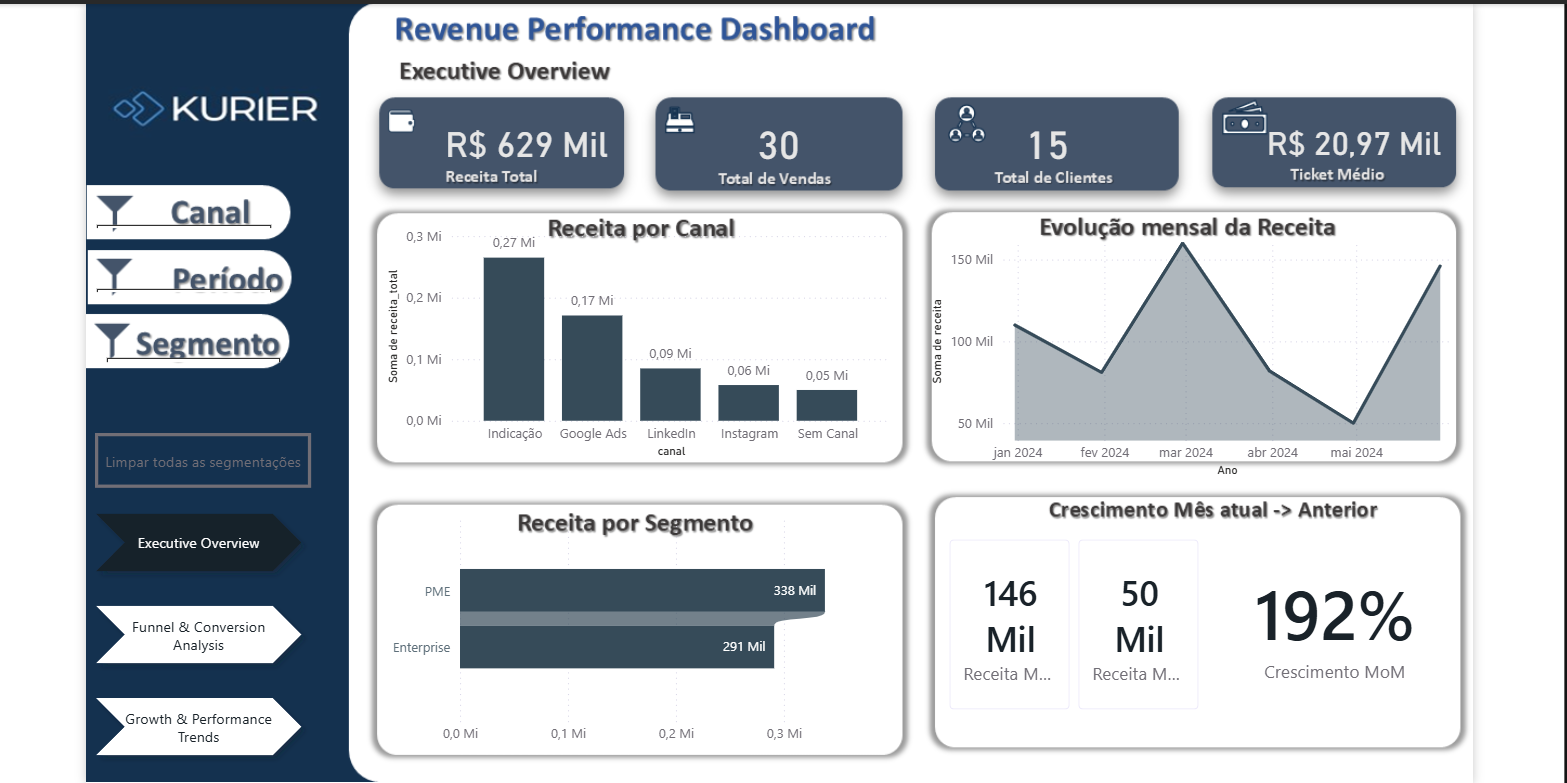

The page's visual inventory and layout, read from the dashboard file:
{"tool":"powerbi","page":{"name":"Executive Overview","canvas":[1280,720],"ordinal":0},"visuals":[{"type":"card","fields":{"Values":["Medidas.Receita Total"]},"box":[321.4,101.4,171.5,51.8],"z":0},{"type":"card","fields":{"Values":["Medidas.Total Vendas"]},"box":[564.1,76.6,151,100.3],"z":1000},{"type":"card","fields":{"Values":["Medidas.Total Clientes"]},"box":[811.1,76.6,152.1,100.3],"z":2000},{"type":"card","fields":{"Values":["Medidas.Ticket Médio"]},"box":[1079.7,76.6,181.2,100.3],"z":3000},{"type":"clusteredColumnChart","fields":{"Category":["revenue_by_source.canal"],"Y":["Sum(revenue_by_source.receita_total)"]},"box":[273.2,196.6,474.5,227.1],"z":4000},{"type":"stackedAreaChart","fields":{"Category":["revenue_by_month.mes.Variation.Hierarquia de datas.Ano","revenue_by_month.mes.Variation.Hierarquia de datas.Trimestre","revenue_by_month.mes.Variation.Hierarquia de datas.Mês","revenue_by_month.mes.Variation.Hierarquia de datas.Dia"],"Y":["Sum(revenue_by_month.receita)"]},"box":[774.9,206.7,504.6,234.2],"z":5000},{"type":"barChart","fields":{"Category":["revenue_by_segment.segment"],"Y":["Sum(revenue_by_segment.receita_total)"]},"box":[273.3,461.2,474.2,229.9],"z":6000},{"type":"cardVisual","fields":{"Data":["Medidas.Crescimento Receita MoM (%)"]},"box":[1045.3,504.6,215.4,148.9],"z":7000},{"type":"cardVisual","fields":{"Data":["Medidas.Receita Mês Atual","Medidas.Receita Mês Anterior"]},"box":[792.3,469.9,264.6,208.2],"z":8000},{"type":"pageNavigator","box":[0,461.8,208.9,241.3],"z":9000},{"type":"slicer","fields":{"Values":["revenue_by_month.mes","revenue_by_month.mes.Variation.Hierarquia de datas.Mês"]},"box":[0,253,180.7,13],"z":10000},{"type":"slicer","fields":{"Values":["revenue_by_source.canal"]},"box":[0,193.7,180.7,13],"z":11000},{"type":"slicer","fields":{"Values":["revenue_by_segment.segment"]},"box":[9,316.7,180.4,14],"z":12000},{"type":"actionButton","box":[8.7,396.1,199.5,50.6],"z":13000}]}

Visuals, with their boxes on the page's 1280x720 design canvas (x1, y1, x2, y2). These are canvas units, not pixel positions in the 1567x783 screenshot, which may show the page scaled, cropped or inside an application window:
card - Medidas.Receita Total: box=[321, 101, 493, 153]
card - Medidas.Total Vendas: box=[564, 77, 715, 177]
card - Medidas.Total Clientes: box=[811, 77, 963, 177]
card - Medidas.Ticket Médio: box=[1080, 77, 1261, 177]
clusteredColumnChart - revenue_by_source.canal x Sum(revenue_by_source.receita_total): box=[273, 197, 748, 424]
stackedAreaChart - revenue_by_month.mes.Variation.Hierarquia de datas.Ano x revenue_by_month.mes.Variation.Hierarquia de datas.Trimestre: box=[775, 207, 1280, 441]
barChart - revenue_by_segment.segment x Sum(revenue_by_segment.receita_total): box=[273, 461, 748, 691]
cardVisual - Medidas.Crescimento Receita MoM (%): box=[1045, 505, 1261, 654]
cardVisual - Medidas.Receita Mês Atual x Medidas.Receita Mês Anterior: box=[792, 470, 1057, 678]
pageNavigator: box=[0, 462, 209, 703]
slicer - revenue_by_month.mes x revenue_by_month.mes.Variation.Hierarquia de datas.Mês: box=[0, 253, 181, 266]
slicer - revenue_by_source.canal: box=[0, 194, 181, 207]
slicer - revenue_by_segment.segment: box=[9, 317, 189, 331]
actionButton: box=[9, 396, 208, 447]
